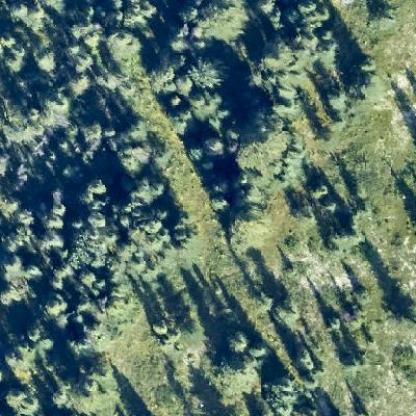tree-top: (192, 55, 223, 89), (40, 86, 70, 116), (121, 116, 148, 144), (368, 3, 397, 28), (278, 298, 301, 322), (44, 288, 66, 312), (340, 224, 365, 245), (35, 46, 58, 68), (228, 328, 249, 352), (111, 27, 135, 48), (49, 194, 70, 216), (8, 0, 28, 22), (85, 208, 104, 231), (310, 179, 331, 199), (3, 250, 22, 272), (204, 135, 224, 154), (86, 174, 106, 192), (327, 85, 344, 105), (253, 0, 277, 12), (153, 318, 168, 336), (166, 92, 181, 108), (25, 324, 39, 340)
